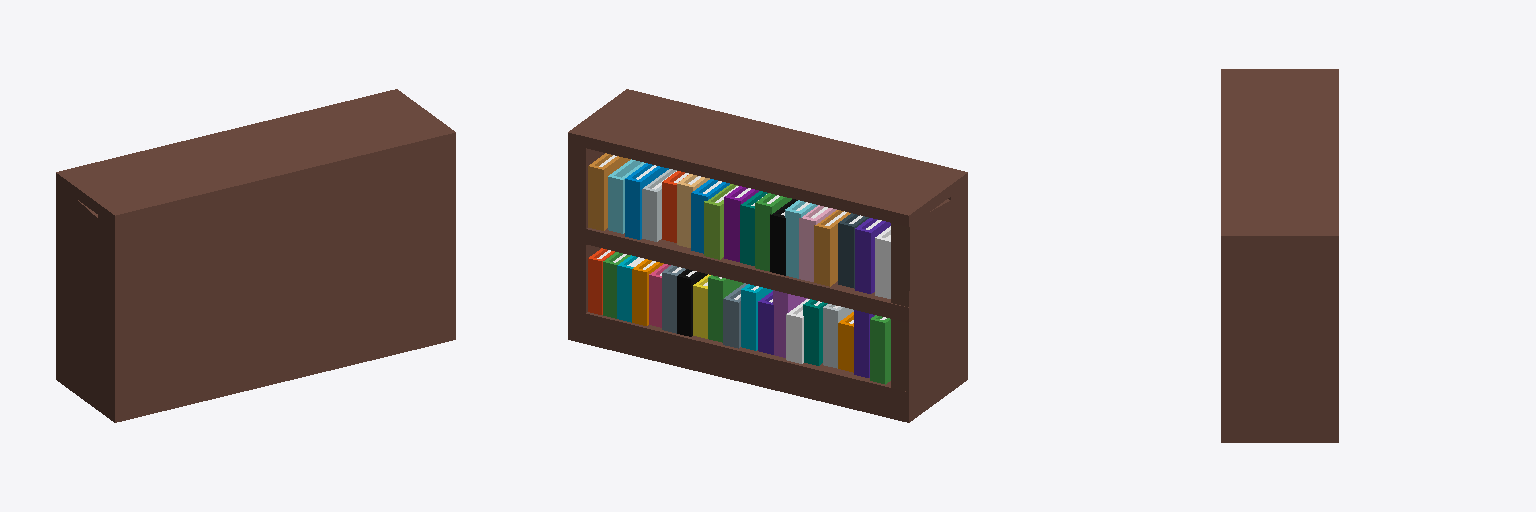
3 views of the same model, side by side, from view 1: azimuth 30°, elevation 25°; view 2: azimuth 150°, elevation 25°; view 3: azimuth 270°, elevation 25° (orthographic).
Visible parts, largest first — view 1: group[number redacted], group[number redacted], group[number redacted], group[number redacted], group[number redacted]; view 2: group[number redacted], group[number redacted], group[number redacted], group[number redacted], group[number redacted], group[number redacted], group[number redacted], group[number redacted], group[number redacted], group[number redacted], group[number redacted], group[number redacted] (+23 smaller); view 3: group[number redacted], group[number redacted], group[number redacted], group[number redacted].
Boxes of the visible parts, box(x1,y1,x2,y2) form: group[number redacted]: box(98, 144, 455, 395); group[number redacted]: box(56, 89, 455, 226); group[number redacted]: box(56, 309, 455, 422); group[number redacted]: box(56, 181, 100, 379); group[number redacted]: box(56, 265, 101, 312); group[number redacted]: box(568, 89, 967, 226); group[number redacted]: box(568, 312, 967, 422); group[number redacted]: box(891, 199, 953, 395); group[number redacted]: box(586, 228, 955, 322); group[number redacted]: box(568, 144, 604, 316); group[number redacted]: box(948, 184, 967, 364); group[number redacted]: box(588, 165, 605, 230); group[number redacted]: box(755, 202, 773, 271); group[number redacted]: box(770, 214, 785, 275); group[number redacted]: box(677, 183, 695, 247); group[number redacted]: box(662, 181, 676, 242); group[number redacted]: box(785, 209, 801, 277); group[number redacted]: box(1221, 69, 1338, 246); group[number redacted]: box(1238, 247, 1338, 411); group[number redacted]: box(1221, 247, 1254, 411); group[number redacted]: box(1221, 412, 1338, 442).
Size of the model in its own units: 0.93 by 0.54 by 0.28.